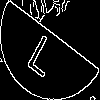L: (25, 25, 65, 79)
